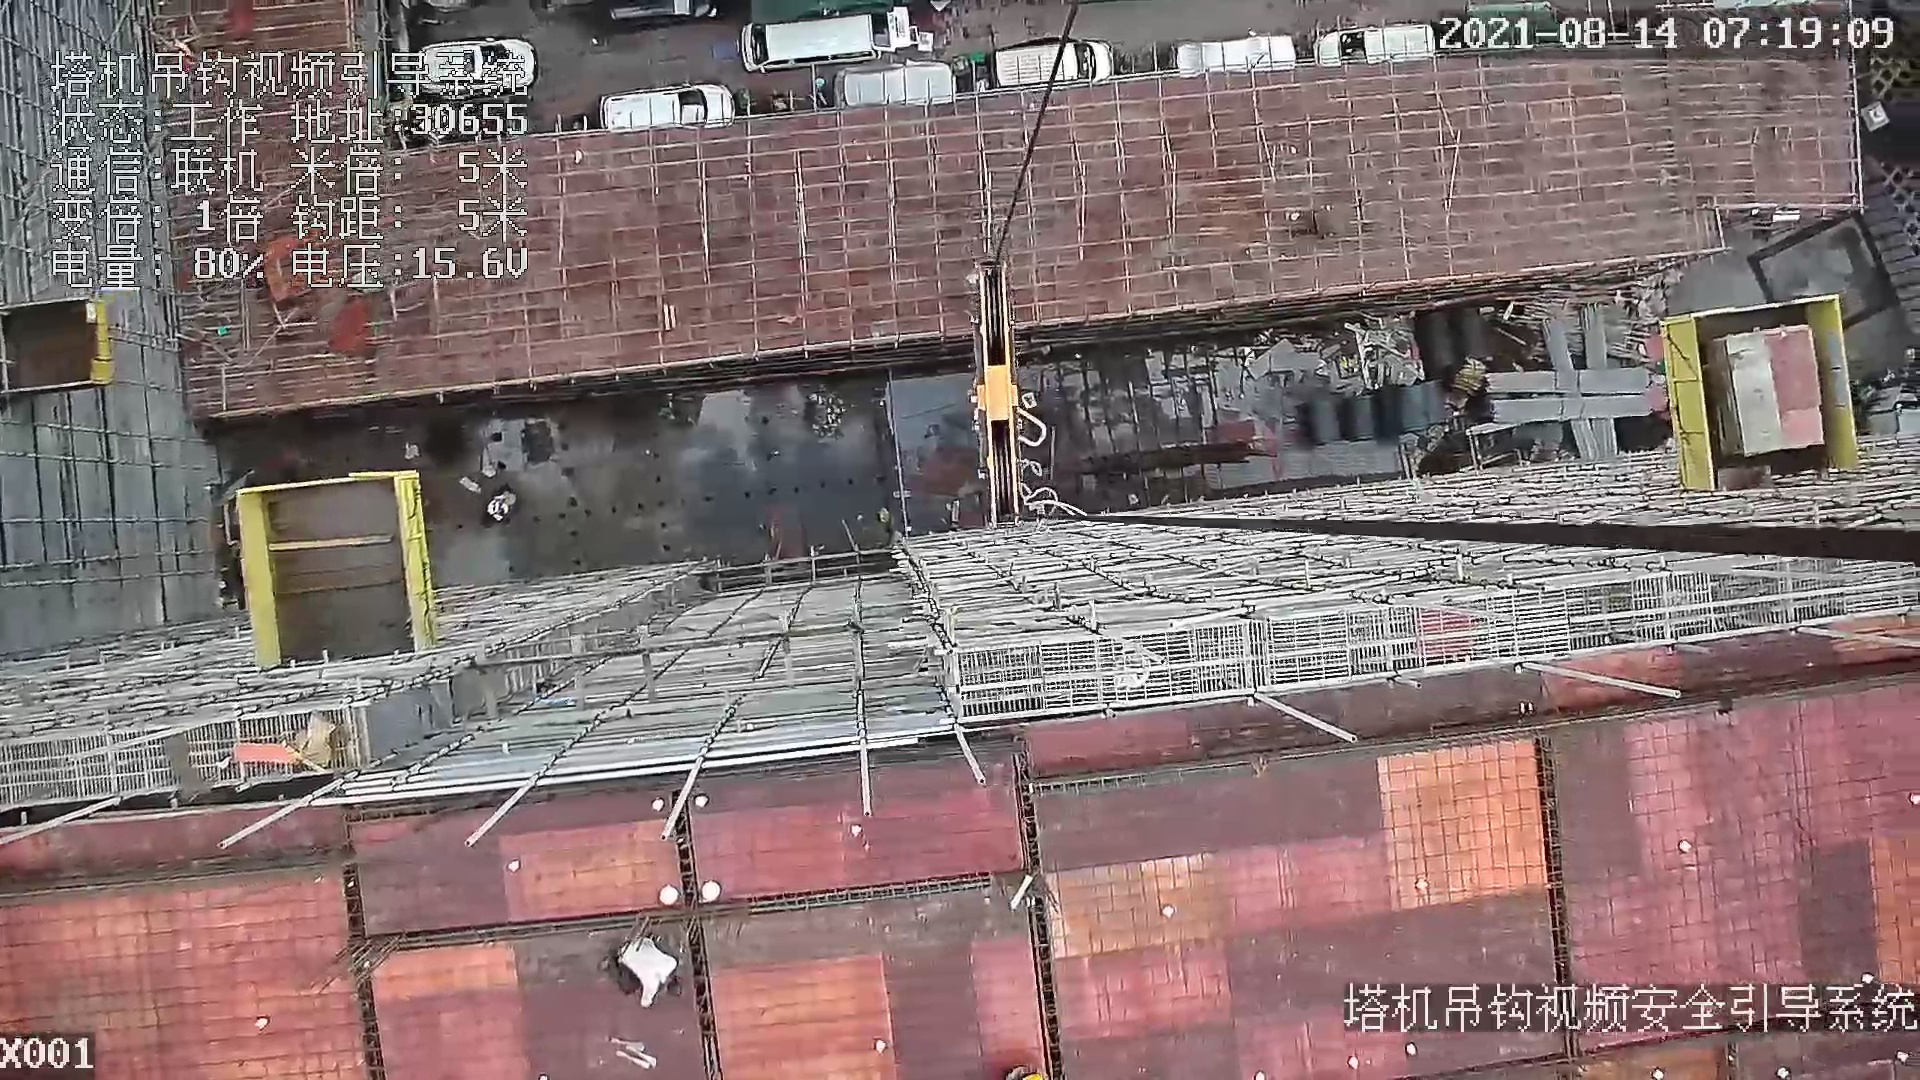hook: (962, 256, 1051, 528)
person: (613, 932, 686, 1008)
